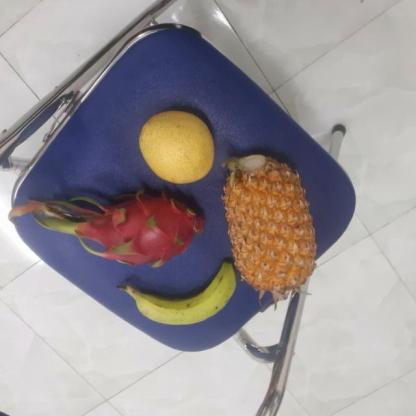banana: (134, 260, 243, 326)
pear: (137, 109, 218, 182)
pineapple: (220, 155, 320, 291)
pitaya: (80, 186, 209, 265)
